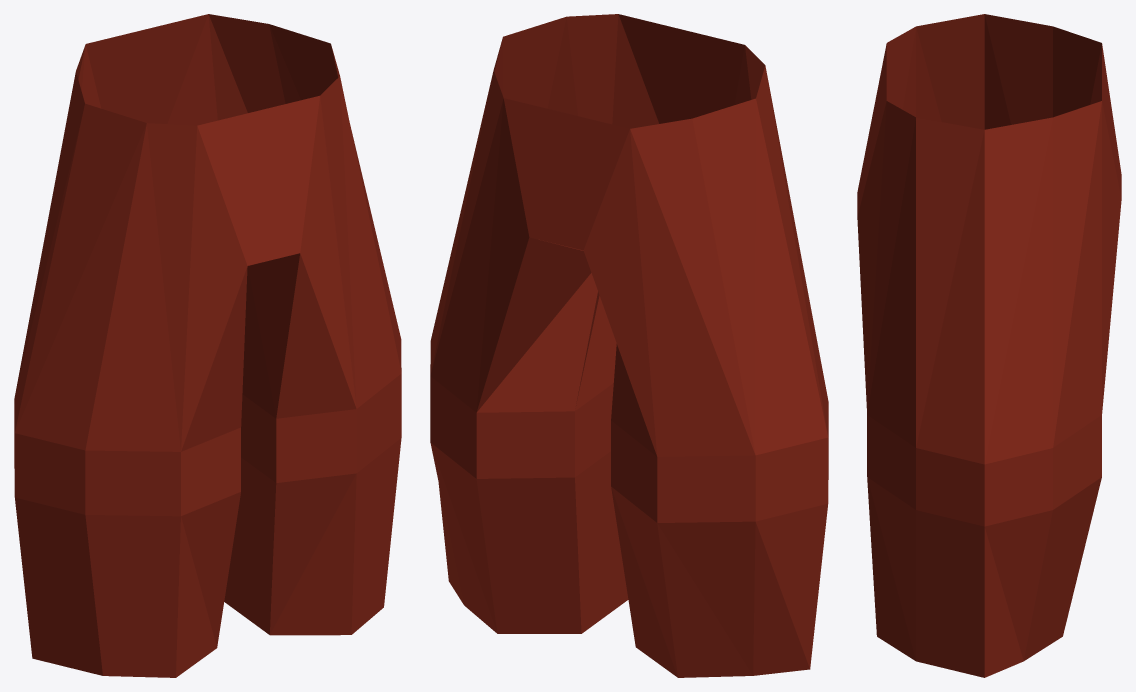
File: npc_world_thurgo_1.obj
The picture shows the model from 3 angles, left to right: view 1: azimuth 30°, elevation 25°; view 2: azimuth 150°, elevation 25°; view 3: azimuth 270°, elevation 25°; orthographic projection. The views are drawn at different scales.
Bounding box in the file's own units: 0.3438 × 0.4609 × 0.2109.
